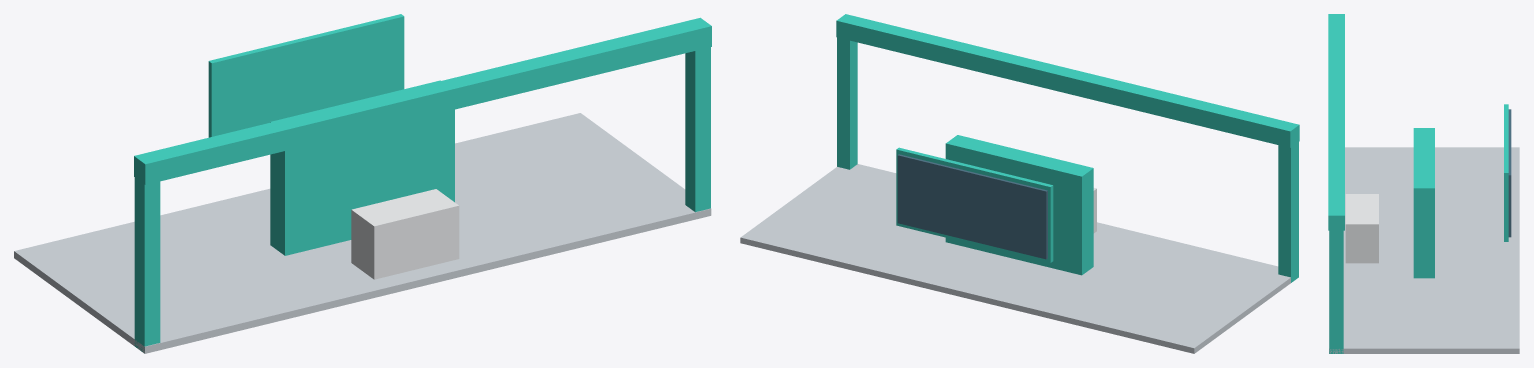
3 renders of one model, left to right at view 1: azimuth 30°, elevation 25°; view 2: azimuth 150°, elevation 25°; view 3: azimuth 270°, elevation 25°, orthographic. The views are drawn at different scales.
Parts seen in each view (by area): view 1: Exhibition Booth Concept; view 2: Exhibition Booth Concept; view 3: Exhibition Booth Concept.
Part boxes in pixels (<box>): Exhibition Booth Concept: <box>14,14,711,353</box>; Exhibition Booth Concept: <box>740,14,1299,353</box>; Exhibition Booth Concept: <box>1328,14,1519,353</box>.
Size of the model in its own units: 10 by 3.2 by 4.02.
